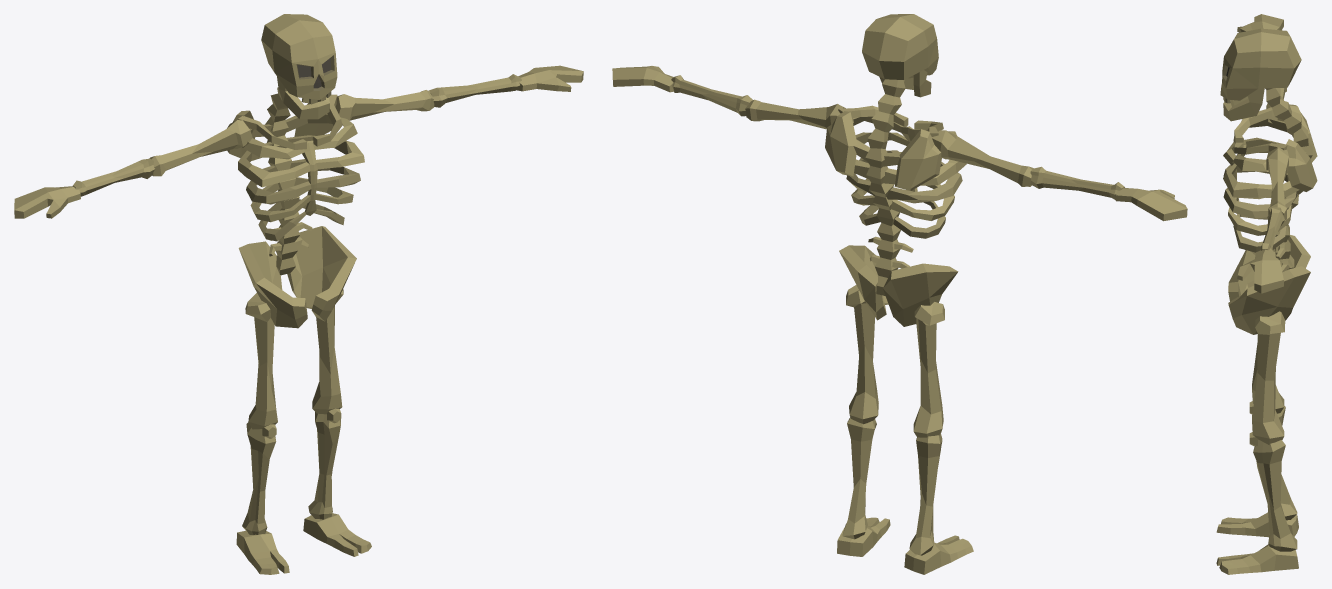
The model's file is Sceleton_1.fbx.
3 views of the same model, side by side, from view 1: azimuth 30°, elevation 25°; view 2: azimuth 150°, elevation 25°; view 3: azimuth 270°, elevation 25° (orthographic). The views are drawn at different scales.
Parts seen in each view (by area): view 1: Sceleton_1; view 2: Sceleton_1; view 3: Sceleton_1.
Part boxes in pixels (bbox=[...]): Sceleton_1: bbox=[14, 14, 583, 574]; Sceleton_1: bbox=[612, 14, 1187, 574]; Sceleton_1: bbox=[1216, 14, 1317, 574].
Size of the model in its own units: 197 by 175 by 31.
